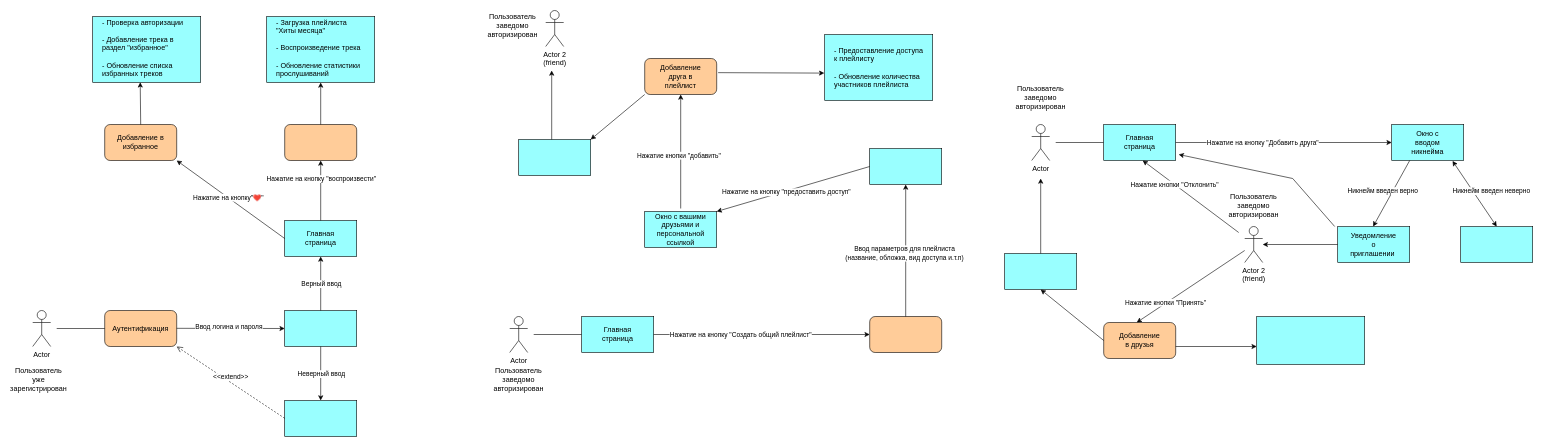
This 1543x447 diagram has some shape labels left out. The shapes that lost their labels are listed below. From the top down, each one's centre as x and y in pixels, then its label:
point 320,142: Воспроизвести хит месяца
point 554,157: Уведомление о предоставлении доступа к плейлисту
point 905,166: Страница с созданным пустым плейлистом
point 1496,244: Уведомление об ошибке ввода
point 1040,271: Уведомление о принятии приглашения
point 320,328: Проверка логина и пароля
point 905,334: Создание общего плейлиста
point 1310,340: - Обновление списка друзей(у обоих пользователей)
point 320,418: Уведомление об ошибке
